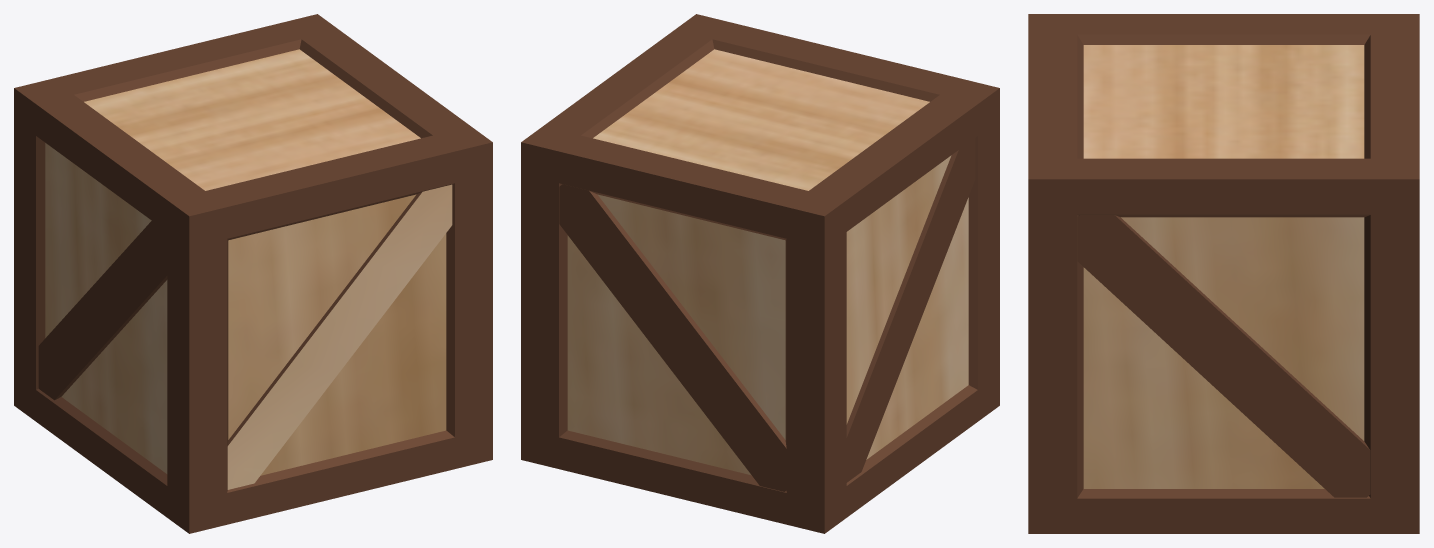
The model's file is broken_FlaskSquare.fbx_floor3.fbx_Box.fbx.
3 views of the same model, side by side, from view 1: azimuth 30°, elevation 25°; view 2: azimuth 150°, elevation 25°; view 3: azimuth 270°, elevation 25° (orthographic). The views are drawn at different scales.
Parts seen in each view (by area): view 1: Cube.018; view 2: Cube.018; view 3: Cube.018.
Part boxes in pixels (<box>): Cube.018: <box>14,14,492,533</box>; Cube.018: <box>521,14,999,533</box>; Cube.018: <box>1028,14,1419,533</box>.
Bounding box in the file's own units: 77.91 × 77.91 × 77.91.
